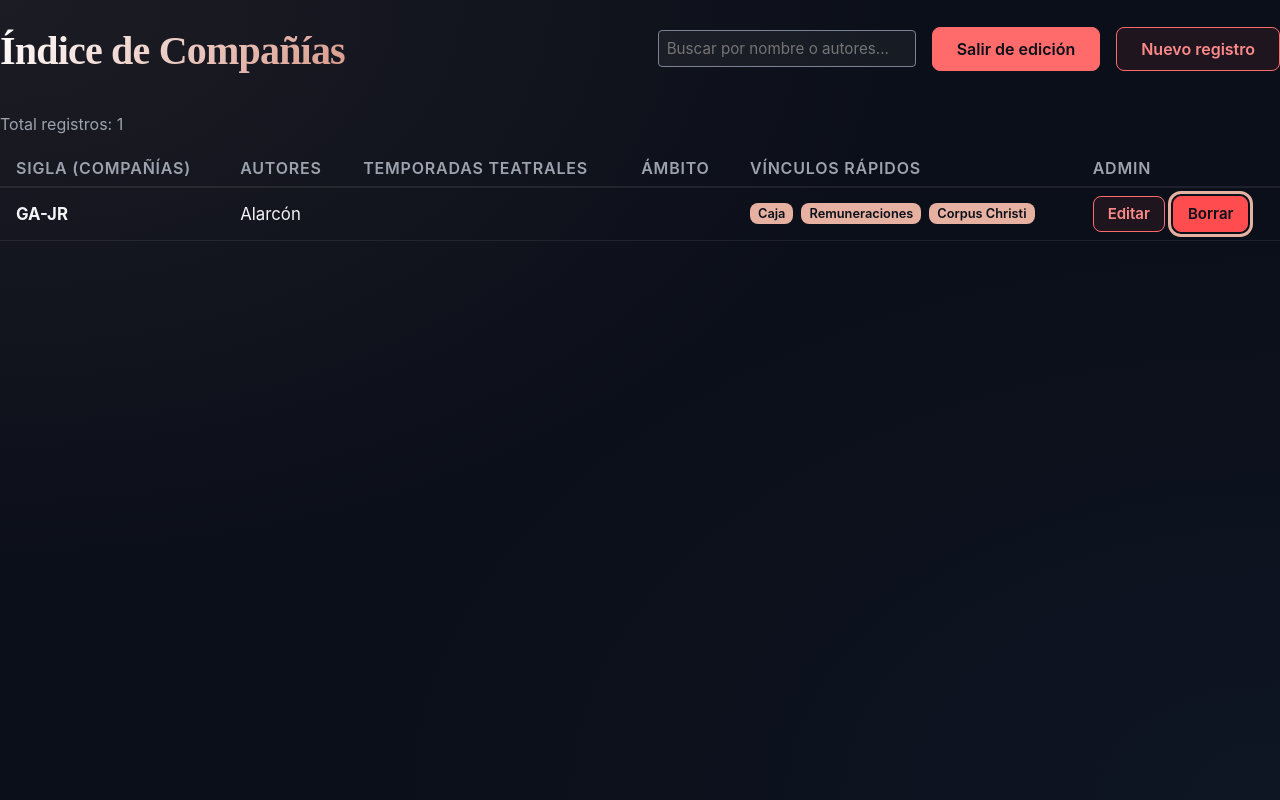
it: capa de espera en IndiceCompanias › el foco pasa a la capa, luego a «Cancelar» de la confirmación y al cancelar vuelve a «Borrar»
Click the button "Borrar" at point(1211, 214), box [1173,196,1248,232]
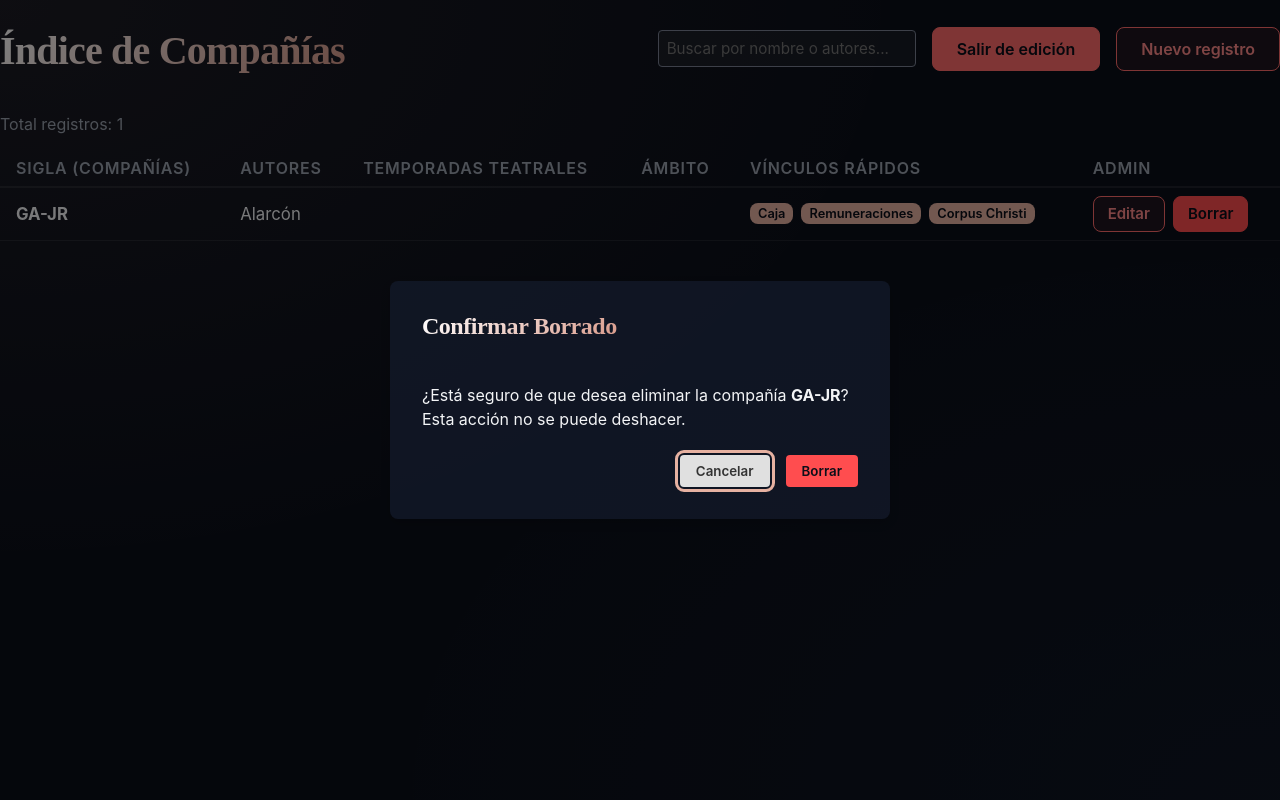
Click the button "Cancelar" at point(725, 472), box [680,456,770,488]
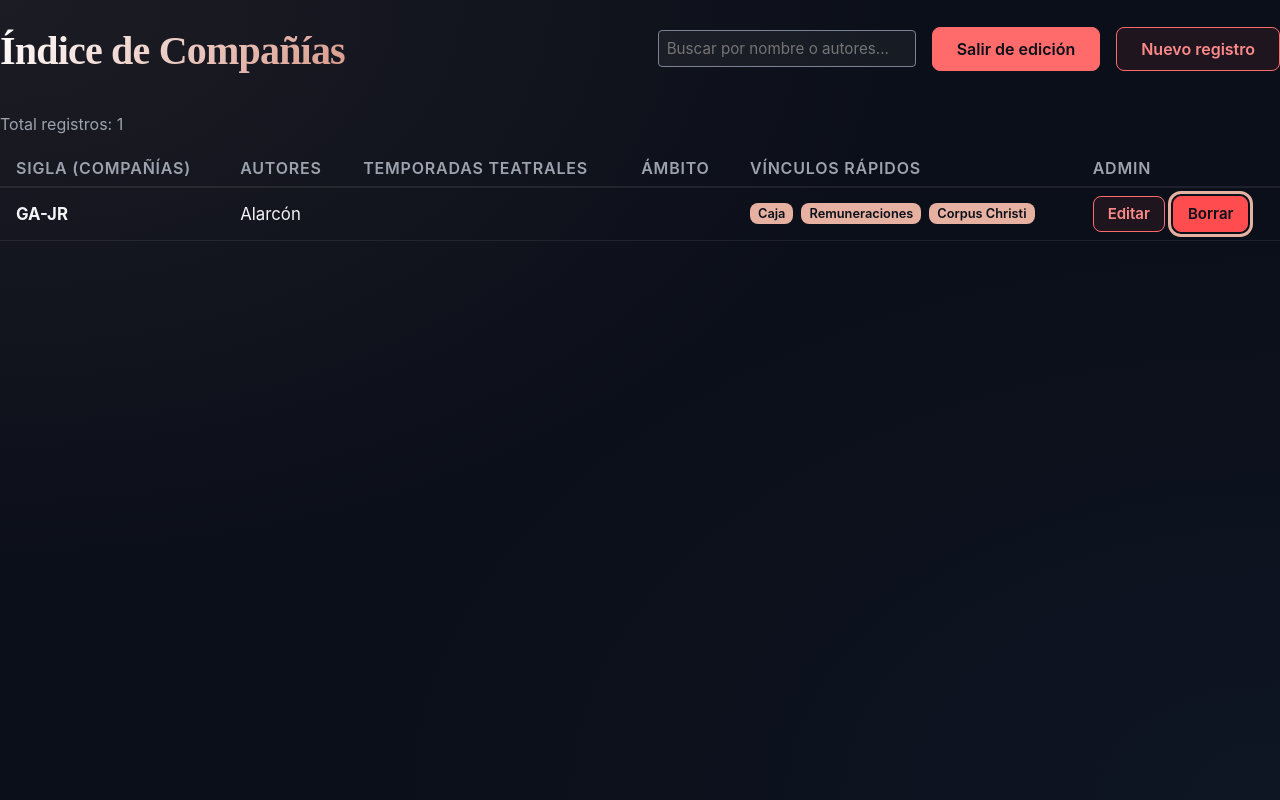
expect the dialog is gone: met
